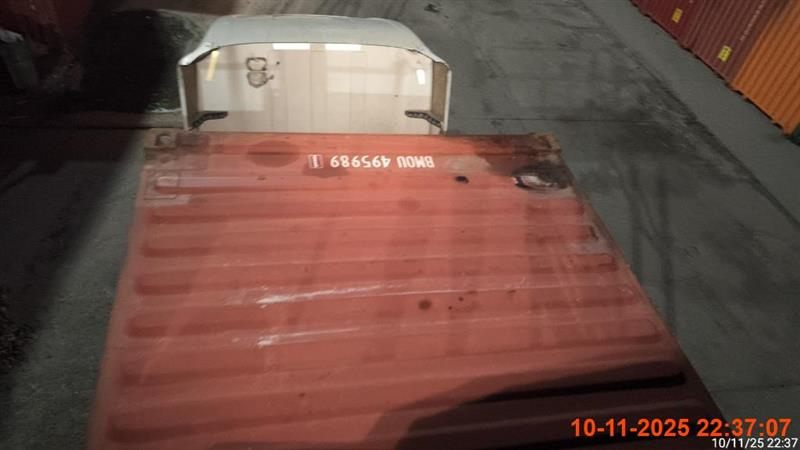hole: (87, 14, 738, 441)
